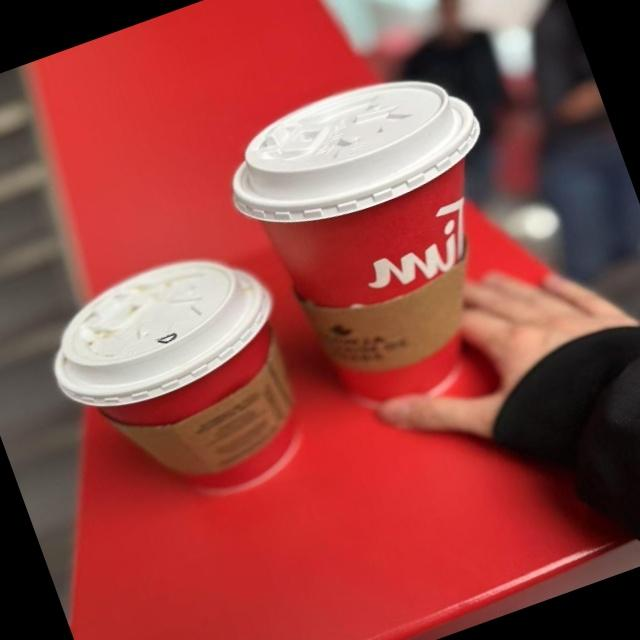Timmies: (205, 47, 568, 444), (28, 230, 334, 544)
